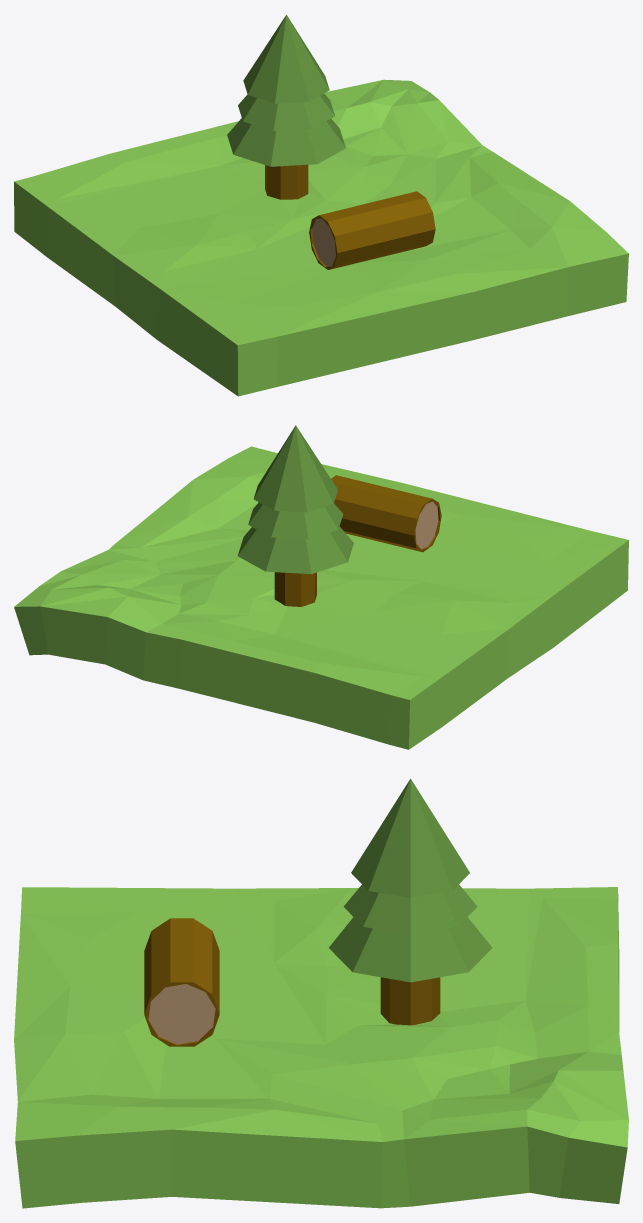
Rendered from lowpoly.fbx.
3 views of the same model, one above another, from view 1: azimuth 30°, elevation 25°; view 2: azimuth 150°, elevation 25°; view 3: azimuth 270°, elevation 25° (orthographic). The views are drawn at different scales.
Parts seen in each view (by area): view 1: Plane, Cylinder, Cone_2, Cone, Cone_1, Cylinder_1; view 2: Plane, Cylinder, Cone_2, Cone, Cone_1, Cylinder_1; view 3: Plane, Cylinder, Cone_2, Cone, Cone_1, Cylinder_1.
Part boxes in pixels (bbox=[...]): Plane: bbox=[14, 79, 628, 396]; Cylinder: bbox=[309, 191, 435, 269]; Cone_2: bbox=[243, 15, 329, 103]; Cone: bbox=[227, 118, 345, 166]; Cone_1: bbox=[238, 93, 334, 131]; Cylinder_1: bbox=[265, 164, 308, 199]; Plane: bbox=[14, 446, 628, 749]; Cylinder: bbox=[331, 475, 441, 552]; Cone_2: bbox=[253, 425, 337, 512]; Cone: bbox=[237, 526, 353, 574]; Cone_1: bbox=[248, 502, 343, 539]; Cylinder_1: bbox=[274, 572, 316, 606]; Plane: bbox=[14, 887, 628, 1208]; Cylinder: bbox=[144, 918, 219, 1046]; Cone_2: bbox=[351, 778, 469, 897]; Cone: bbox=[329, 917, 492, 982]; Cone_1: bbox=[343, 884, 477, 934]; Cylinder_1: bbox=[380, 977, 440, 1025].
Bounding box in the file's own units: 416 × 225 × 413.
